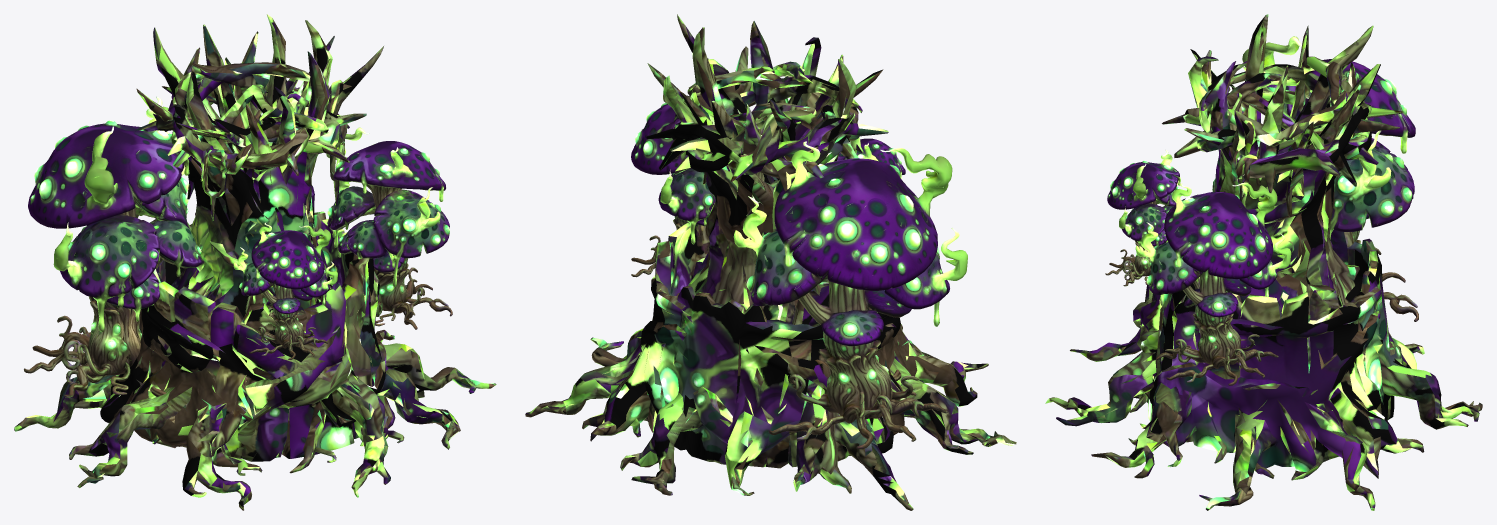
Rendered from mycelialnode_kitbash_sporecloud_sapling_v01_prepared.fbx.
3 renders of one model, left to right at view 1: azimuth 30°, elevation 25°; view 2: azimuth 150°, elevation 25°; view 3: azimuth 270°, elevation 25°, orthographic. The views are drawn at different scales.
Visible parts, largest first — view 1: LTW_MycelialNode_Kitbash; view 2: LTW_MycelialNode_Kitbash; view 3: LTW_MycelialNode_Kitbash.
Part boxes in pixels (bbox=[...]): LTW_MycelialNode_Kitbash: bbox=[14, 14, 496, 510]; LTW_MycelialNode_Kitbash: bbox=[525, 14, 1016, 510]; LTW_MycelialNode_Kitbash: bbox=[1045, 14, 1482, 510].
Size of the model in its own units: 143 by 125 by 130.
